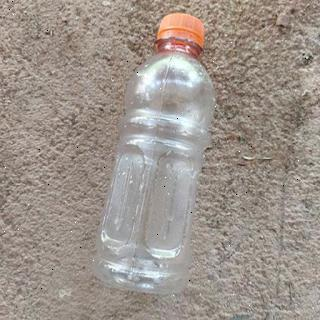Plastic-bottle: (90, 13, 219, 298)
